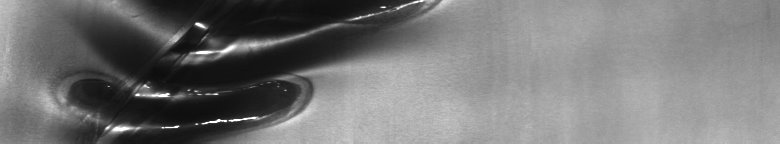ke: (60, 4, 438, 136)
